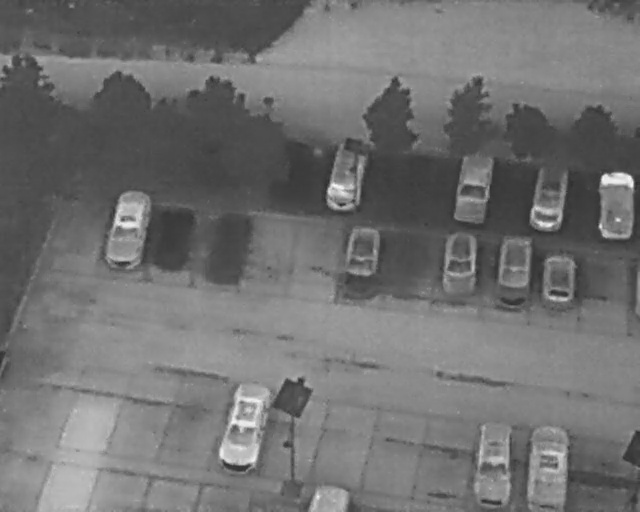Car: (213, 377, 274, 480), (100, 184, 157, 274), (320, 137, 373, 217), (472, 418, 517, 510), (523, 161, 575, 236), (526, 426, 570, 510), (449, 153, 497, 228), (492, 232, 538, 309), (594, 167, 637, 241), (440, 228, 481, 295), (343, 223, 382, 280), (540, 252, 577, 311), (307, 485, 354, 510)
